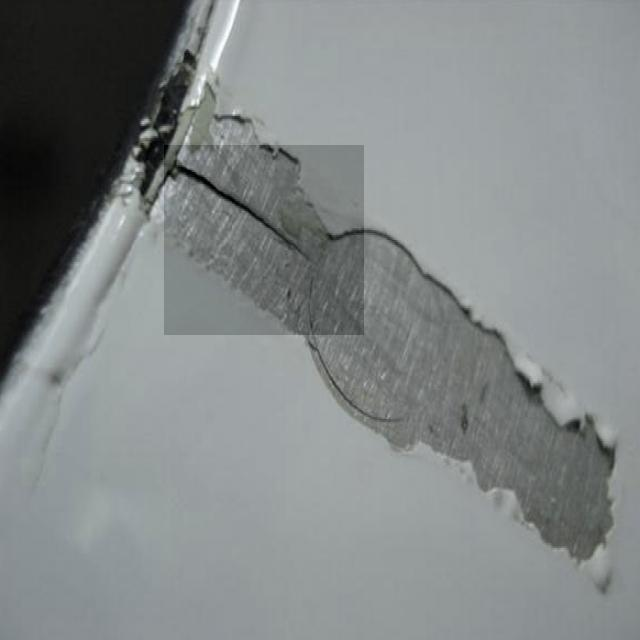crack: (165, 146, 365, 336)
